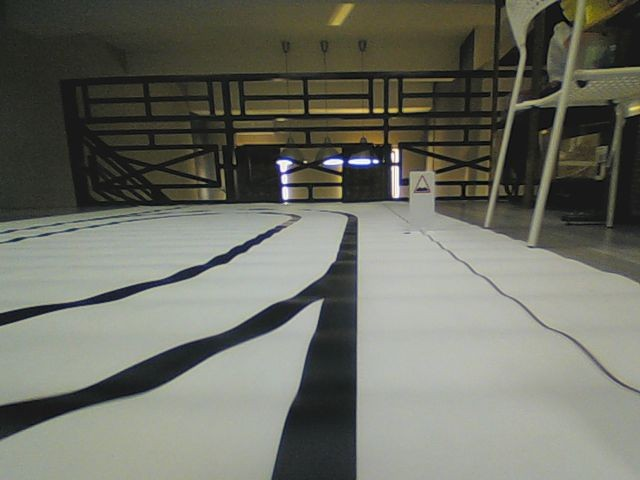Nerov: (412, 173, 431, 195)
